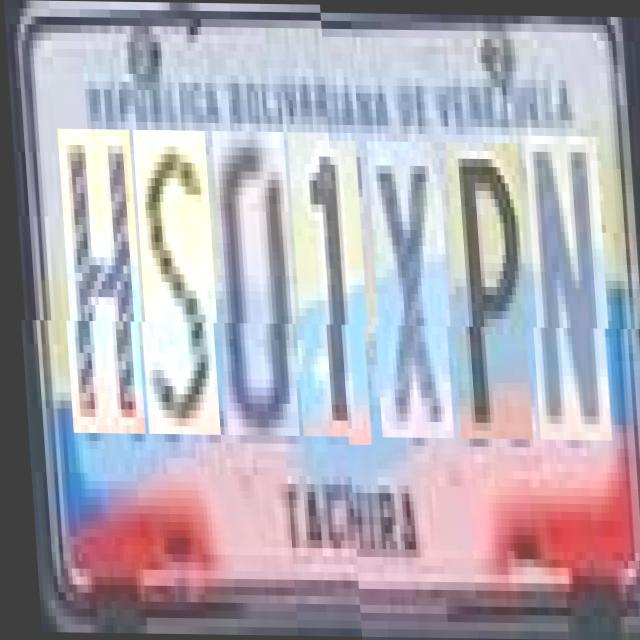0: (210, 138, 298, 444)
1: (286, 139, 370, 444)
H: (56, 136, 143, 442)
N: (522, 134, 610, 439)
P: (444, 141, 531, 438)
S: (132, 138, 218, 442)
X: (365, 140, 452, 437)
